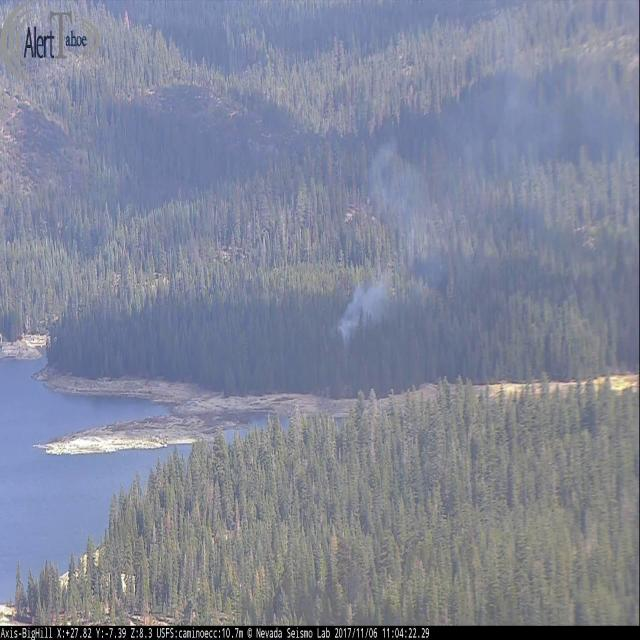smoke: (334, 32, 640, 343)
